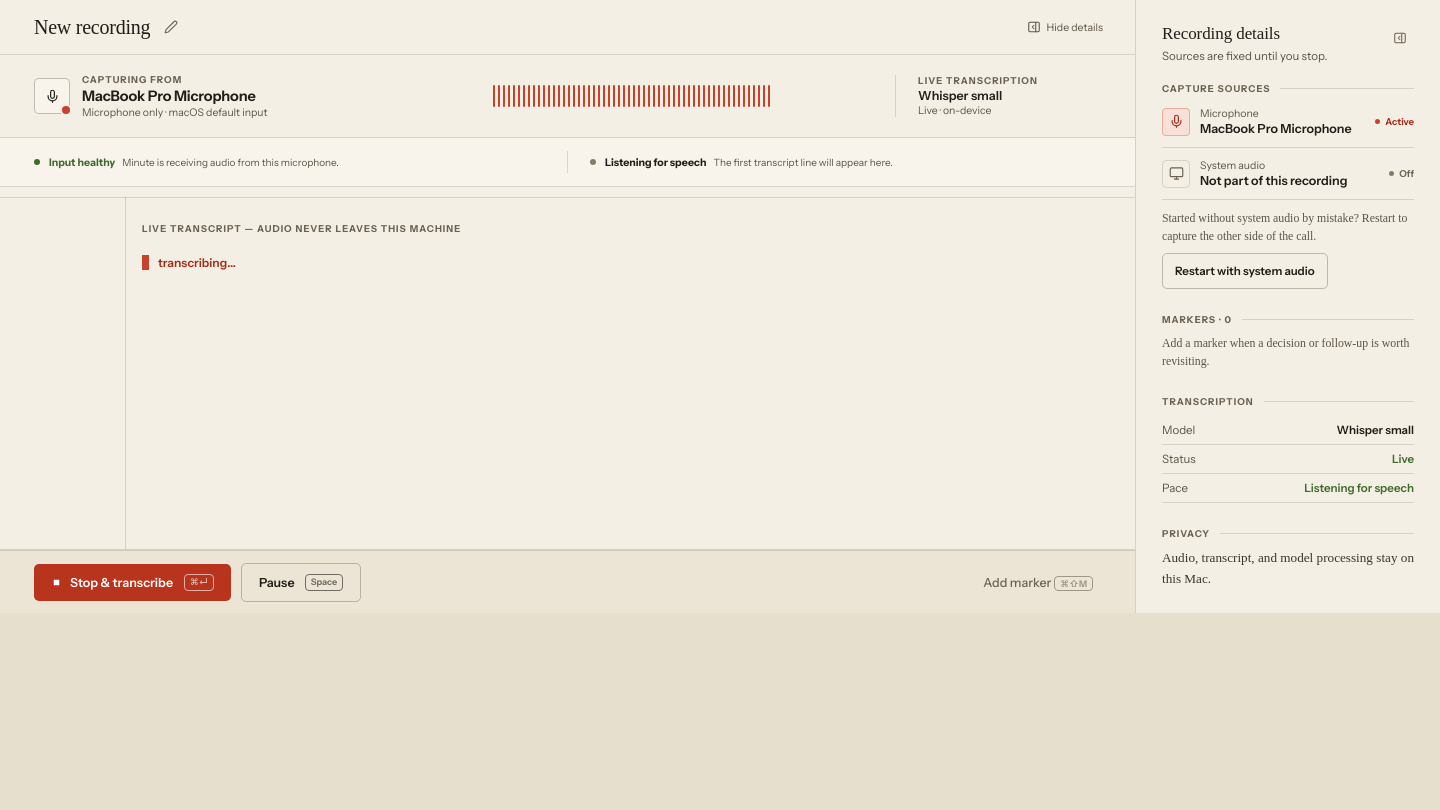
it: RecordingView › restart with system audio › "Go back" backs out of the confirm step without restarting
Click the button "Restart with system audio". click: [1245, 271]
box: [1162, 253, 1328, 289]
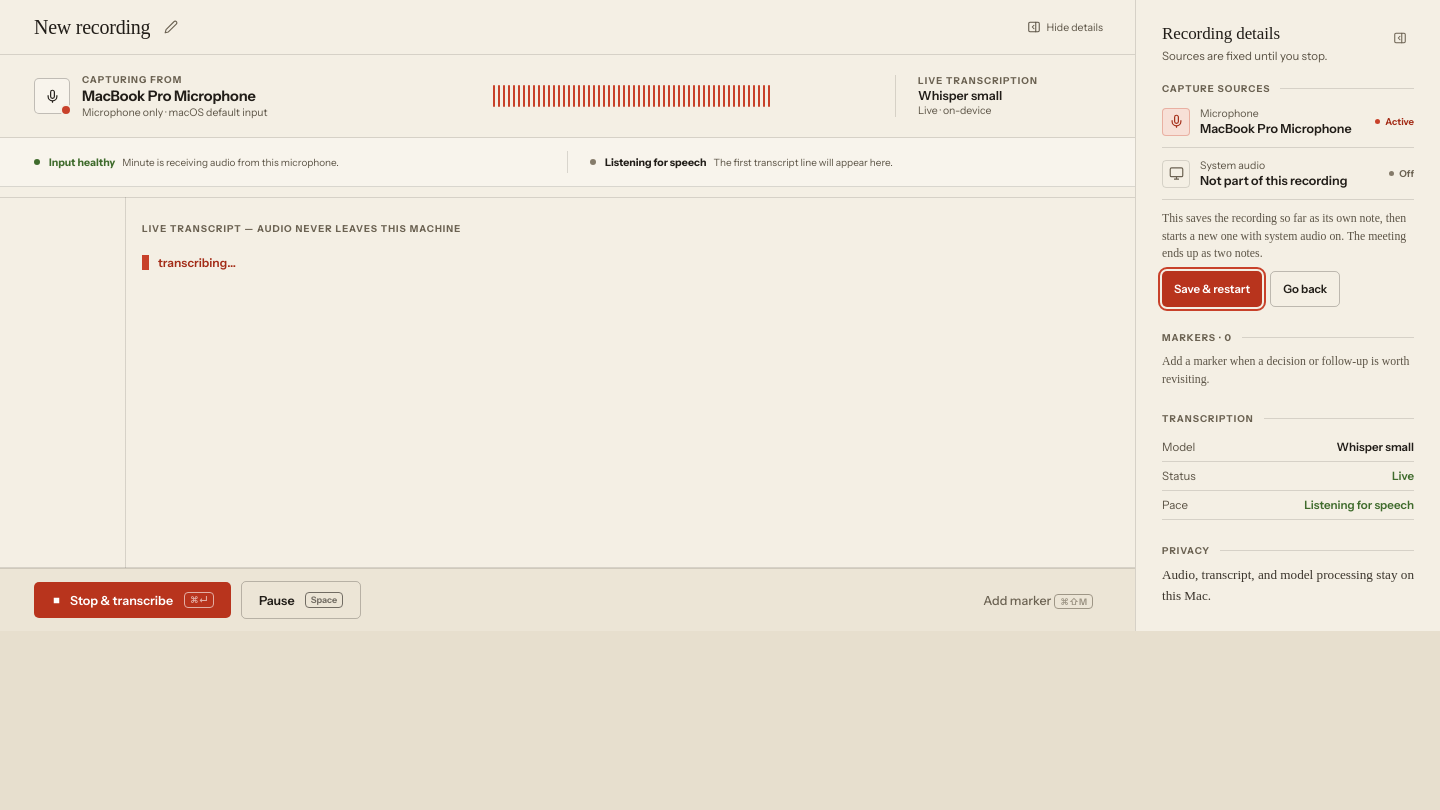
Click the button "Go back". click: [1305, 289]
box: [1270, 271, 1340, 307]
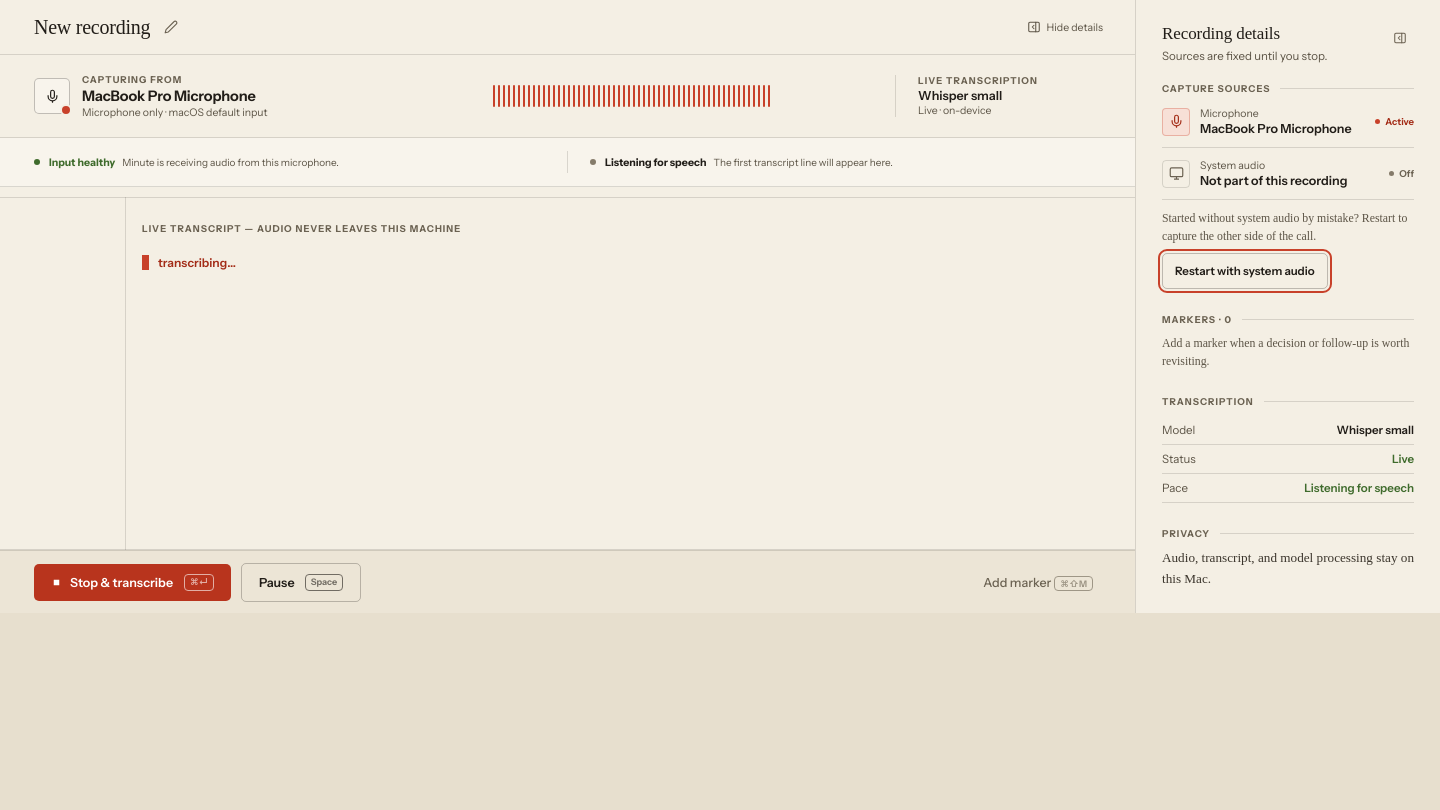
Check: the text "two notes" is gone
Check: the button "Restart with system audio" is shown, box [1162, 253, 1328, 289]
